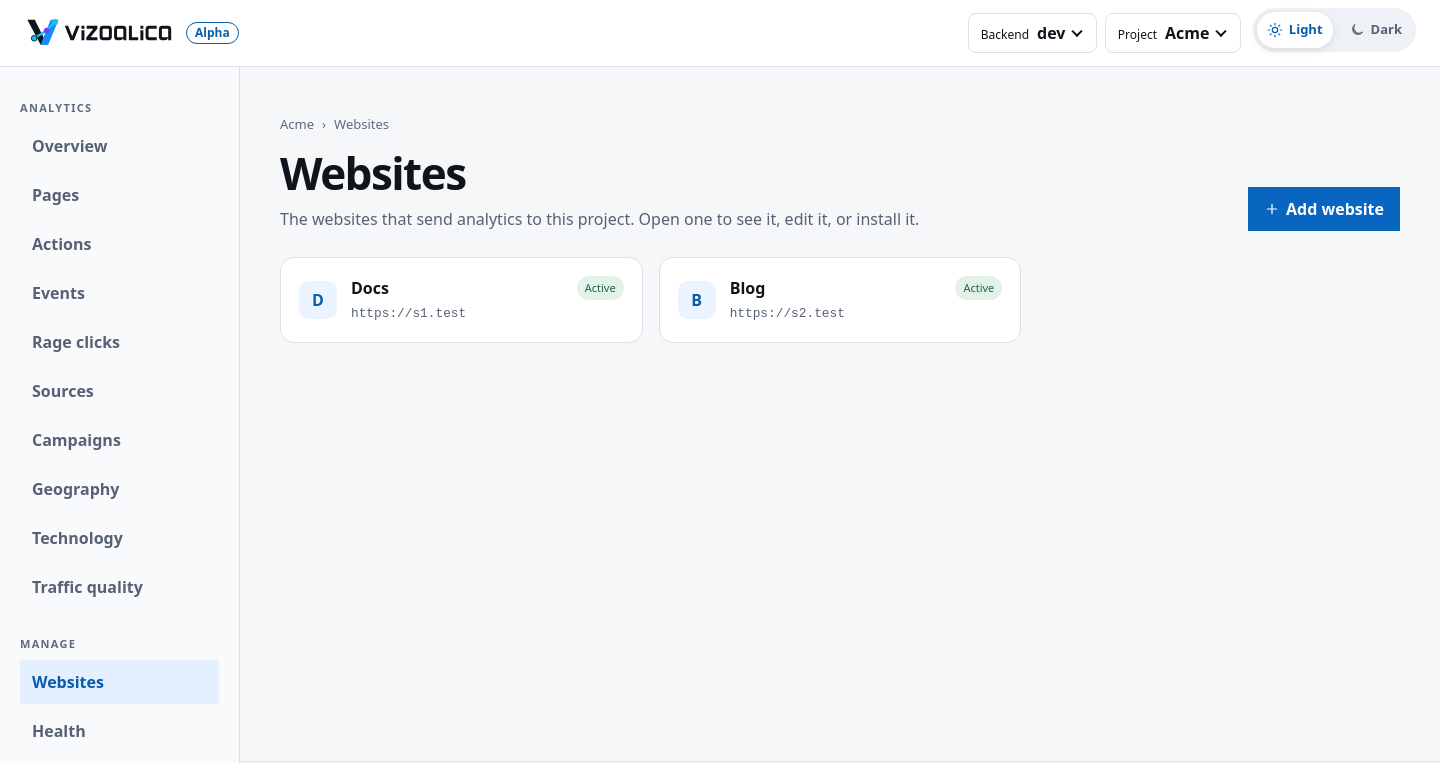
single scope control › reaches installation from a website: list, website page, Install
Step 1. Click the link "B Blog active https://s2.test" → (697, 300), box [659,257,1021,343]
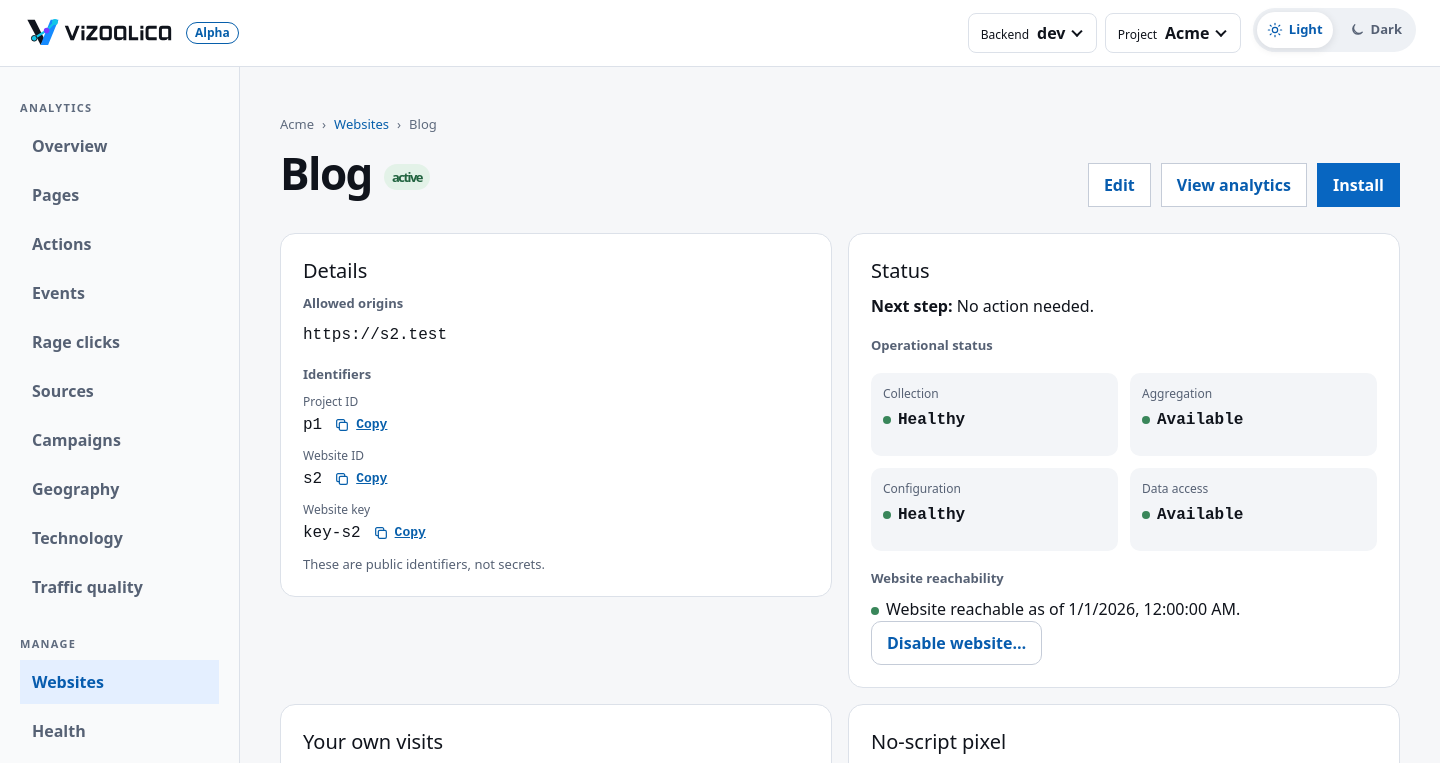
Step 2. Click the link "Install" → (1358, 185), box [1317,163,1400,207]
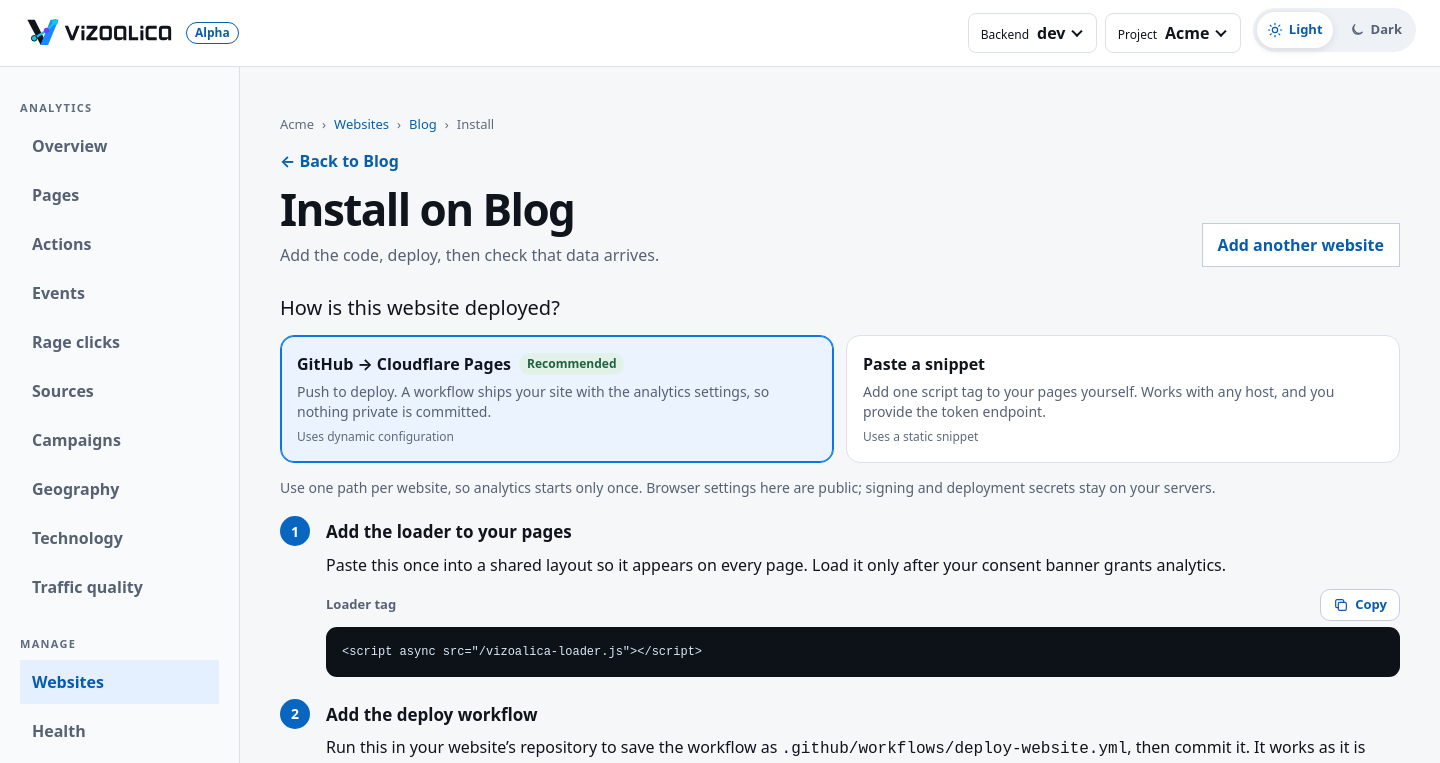
Check: the heading "Install on Blog" is shown, box [280,178,574,238]
